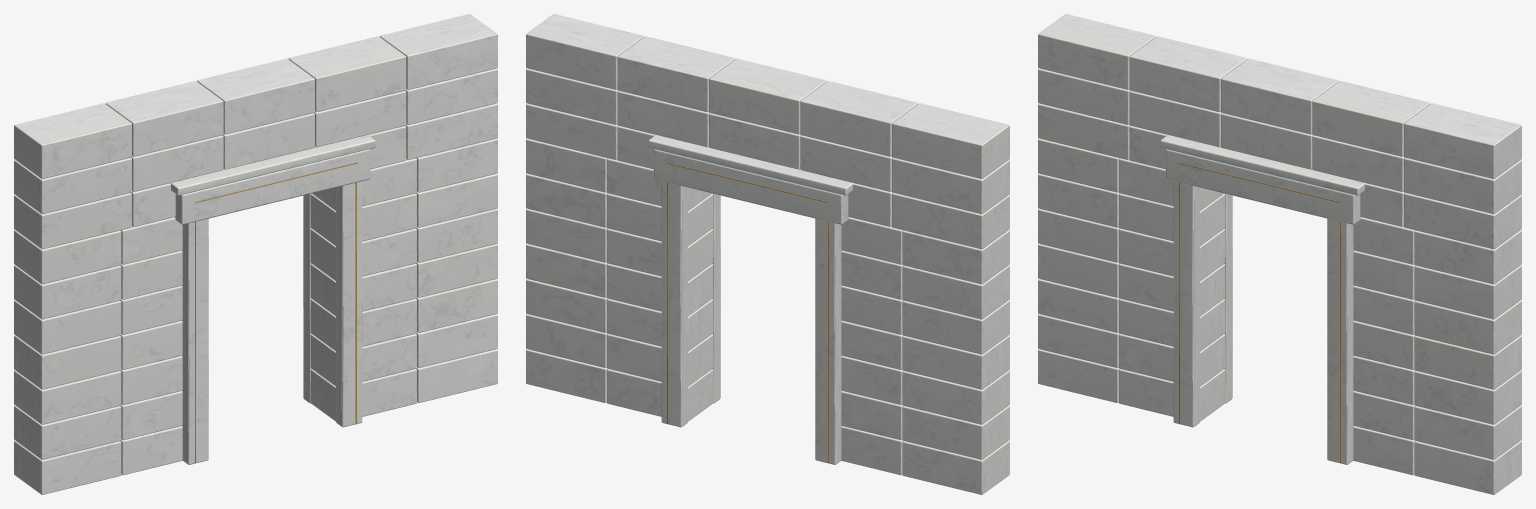
File: wall_doorway.glb
The picture shows the model from 3 angles, left to right: view 1: azimuth 30°, elevation 25°; view 2: azimuth 150°, elevation 25°; view 3: azimuth 330°, elevation 25°; orthographic projection.
Visible parts, largest first — view 1: 06 Wall Doorway; view 2: 06 Wall Doorway; view 3: 06 Wall Doorway.
Boxes of the visible parts, x1,y1,x2,y2 form: 06 Wall Doorway: (14,14,497,494); 06 Wall Doorway: (526,14,1009,494); 06 Wall Doorway: (1038,14,1521,494).
Bounding box in the file's own units: 5.99 × 4.4 × 0.96.
Materials: 2 (2 with a texture image).
